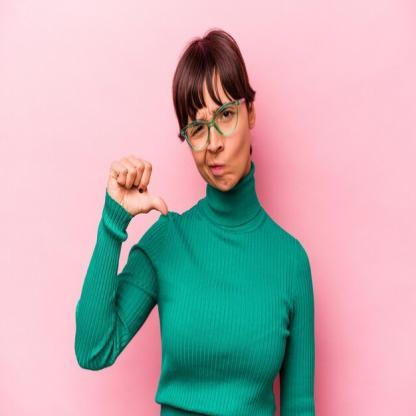thumb_down: (106, 149, 170, 228)
